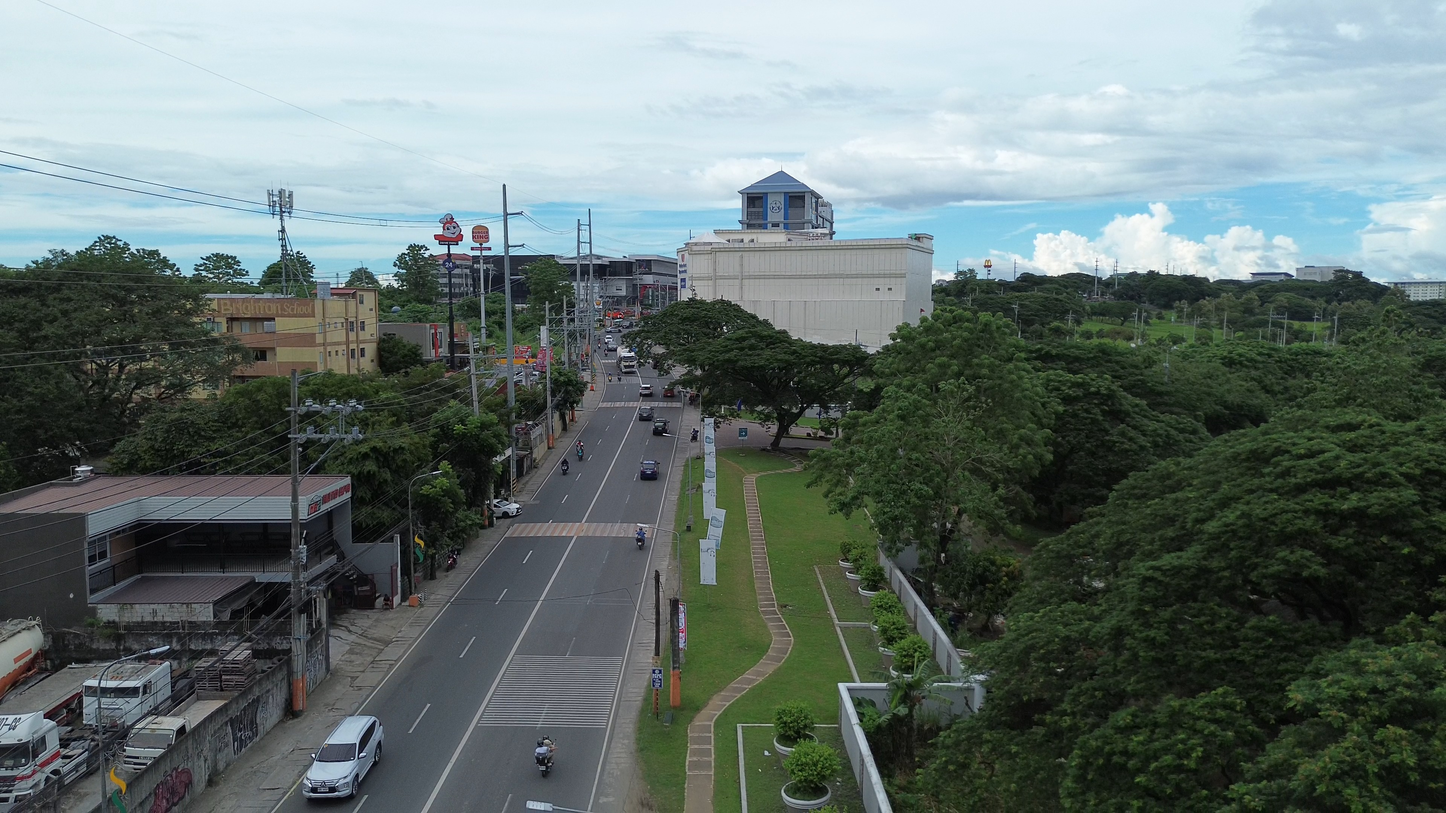car: (491, 499, 522, 517), (639, 460, 659, 480)
motorcycle: (534, 738, 553, 777), (445, 551, 458, 571), (636, 527, 646, 550), (575, 443, 584, 461), (560, 459, 569, 475), (691, 428, 699, 442)
truck: (122, 696, 226, 771)
vehicle: (0, 711, 93, 813), (302, 716, 383, 798), (84, 661, 172, 727), (122, 716, 189, 771), (0, 620, 43, 697), (534, 735, 555, 777), (618, 350, 637, 374), (444, 549, 458, 571), (635, 524, 646, 549), (652, 419, 669, 435), (638, 406, 654, 420), (639, 383, 654, 397), (662, 385, 676, 397), (560, 458, 569, 475)
